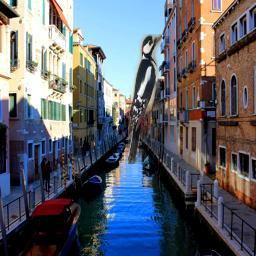Woodpecker: (128, 34, 162, 164)
